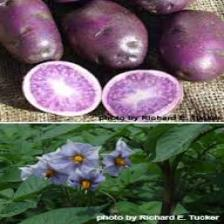Defected potato: (56, 0, 150, 70), (152, 7, 224, 82), (22, 61, 100, 116), (103, 69, 184, 121), (0, 0, 63, 62)
